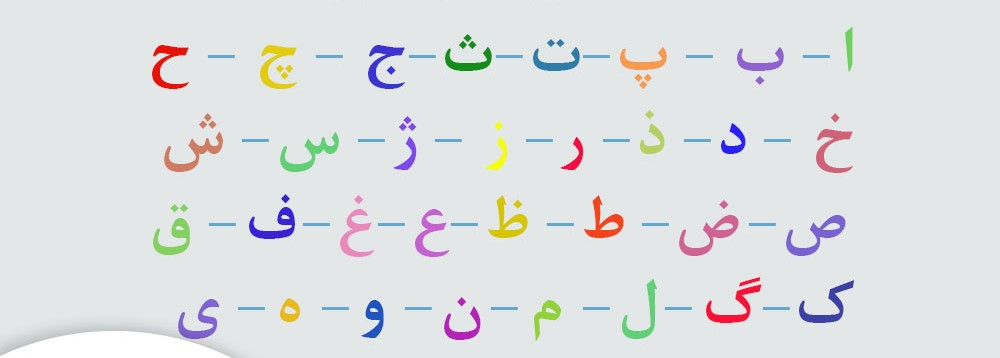character: (153, 107, 229, 179), (238, 22, 312, 95), (795, 270, 873, 335), (813, 106, 867, 196), (779, 202, 850, 270), (672, 195, 744, 261), (137, 23, 199, 99), (275, 119, 351, 180), (523, 13, 583, 90), (434, 17, 495, 88), (699, 270, 764, 336), (133, 193, 195, 261), (613, 25, 675, 92), (241, 188, 303, 252), (732, 28, 792, 94), (836, 21, 886, 90), (387, 104, 430, 181), (357, 30, 407, 93), (619, 272, 661, 347), (175, 285, 228, 343), (335, 192, 376, 266), (484, 192, 534, 250), (631, 106, 677, 168), (475, 110, 515, 181), (410, 197, 450, 268), (579, 196, 630, 248), (439, 289, 488, 343), (358, 288, 403, 346), (529, 287, 569, 347), (715, 111, 755, 166), (559, 119, 594, 179), (272, 284, 313, 330)
